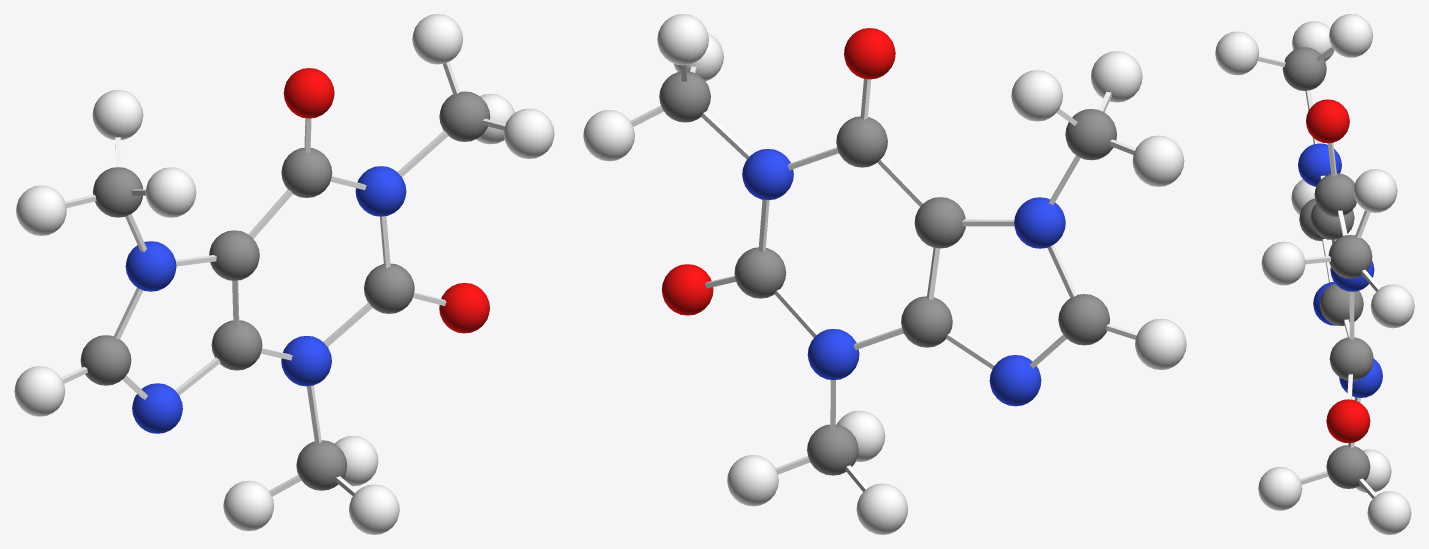
The model's file is Caffeine3.glb.
The picture shows the model from 3 angles, left to right: view 1: azimuth 30°, elevation 25°; view 2: azimuth 150°, elevation 25°; view 3: azimuth 270°, elevation 25°; orthographic projection. The views are drawn at different scales.
Parts seen in each view (by area): view 1: nodes[20], nodes[19], nodes[17], nodes[14], nodes[11], nodes[22], nodes[16], nodes[23], nodes[18], nodes[1], nodes[7], nodes[3] (+12 smaller); view 2: nodes[18], nodes[23], nodes[11], nodes[16], nodes[20], nodes[15], nodes[14], nodes[21], nodes[3], nodes[4], nodes[5], nodes[6] (+12 smaller); view 3: nodes[15], nodes[18], nodes[19], nodes[23], nodes[10], nodes[11], nodes[17], nodes[21], nodes[22], nodes[12], nodes[1], nodes[9] (+13 smaller).
Part boxes in pixels (x1,y1,x2,y2): nodes[20]: [16, 185, 66, 235]; nodes[19]: [145, 167, 196, 217]; nodes[17]: [349, 484, 399, 534]; nodes[14]: [14, 366, 65, 416]; nodes[11]: [283, 68, 334, 118]; nodes[22]: [503, 108, 554, 158]; nodes[16]: [223, 480, 273, 531]; nodes[23]: [412, 14, 462, 64]; nodes[18]: [92, 90, 143, 139]; nodes[1]: [364, 263, 414, 313]; nodes[7]: [80, 335, 131, 385]; nodes[3]: [281, 147, 332, 197]; nodes[18]: [1011, 70, 1062, 121]; nodes[23]: [657, 14, 708, 65]; nodes[11]: [844, 28, 895, 79]; nodes[16]: [856, 483, 908, 534]; nodes[20]: [1132, 135, 1184, 186]; nodes[15]: [727, 455, 778, 506]; nodes[14]: [1135, 318, 1186, 369]; nodes[21]: [583, 110, 634, 161]; nodes[3]: [836, 116, 887, 167]; nodes[4]: [914, 197, 965, 248]; nodes[5]: [901, 296, 952, 347]; nodes[6]: [1014, 197, 1065, 248]; nodes[15]: [1367, 491, 1411, 534]; nodes[18]: [1329, 14, 1372, 57]; nodes[19]: [1215, 31, 1259, 75]; nodes[23]: [1353, 169, 1397, 212]; nodes[10]: [1326, 399, 1370, 443]; nodes[11]: [1306, 99, 1349, 143]; nodes[17]: [1258, 467, 1302, 510]; nodes[21]: [1370, 284, 1414, 328]; nodes[22]: [1261, 241, 1305, 285]; nodes[12]: [1282, 47, 1326, 90]; nodes[1]: [1329, 337, 1373, 380]; nodes[9]: [1326, 445, 1370, 488].
Bounding box in the file's own units: 0.3615 × 0.3063 × 0.1334.
